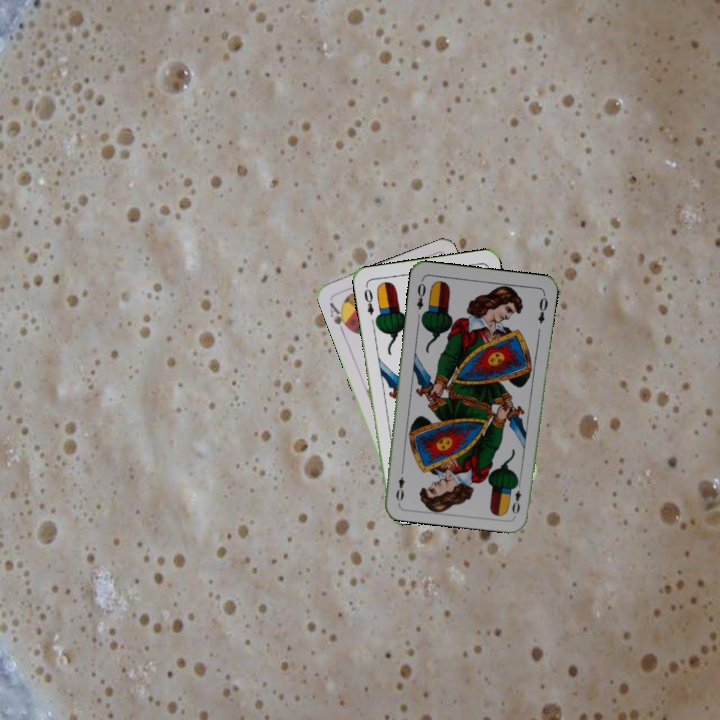EO: (508, 477, 524, 516), (360, 282, 376, 318), (412, 276, 428, 312)
SA: (326, 298, 353, 335)
